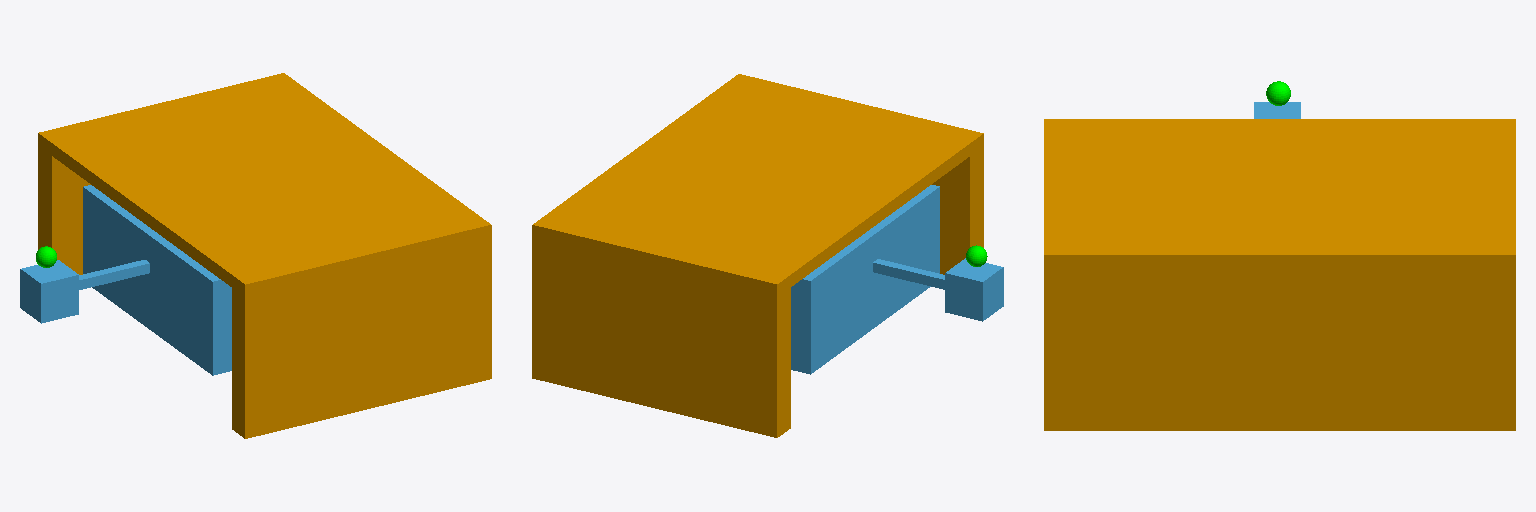
robot.urdf — drawer:
<?xml version="1.0" ?>
<robot name="drawer">
  <!-- Cabinet -->
  <link name="cabinet_link">
    <contact>
      <friction_anchor/>
      <lateral_friction value="10.0"/> <!--  lateral friction for stability -->
      <rolling_friction value="10.01"/> <!--  rolling friction for stability -->
    </contact>
    <inertial>
       <origin rpy="0 0 0" xyz="0 0 0"/>
       <mass value="10.1"/>
            <inertia ixx="0.0" ixy="0.0" ixz="0.0" iyy="0.0" iyz="0.0" izz="0.0" />
    </inertial>
    <visual>
      <geometry>
        <mesh filename="./cabinet/cabinet.obj" scale="1.3 1.3 1.3"/>
      </geometry>
    </visual>
    <collision>
      <geometry>
    	 	<mesh filename="./cabinet/cabinet.obj" scale="1.3 1.3 1.3"/>
      </geometry>
    </collision>
  </link>


  <!-- Drawer  -->
  <link name="drawer_link">
    <contact>
      <friction_anchor/>
      <lateral_friction value="2.5"/> <!--  lateral friction for stability -->
      <rolling_friction value="2.5"/> <!--  rolling friction for stability -->
    </contact>
    <inertial>
       <origin rpy="0 0 0" xyz="0 0 0"/>
       <mass value="1.1"/>
            <inertia ixx="0.0" ixy="0.0" ixz="0.0" iyy="0.0" iyz="0.0" izz="0.0" />
    </inertial>
    <visual>
      <geometry>
        <mesh filename="./drawer/drawerhandle.obj" scale="1 0.95 1"/>
      </geometry>
    </visual>
    <collision>
      <geometry>
    	 	<mesh filename="./drawer/drawerhandle.obj" scale="1 0.95 1"/>
      </geometry>
    </collision>
  </link>
 
  <joint name="drawer_joint" type="prismatic">
    <parent link="cabinet_link"/>
    <child link="drawer_link"/>
    <origin xyz="0 0 0" rpy="0 0 0"/>
    <axis xyz="1 0 0"/>
        <dynamics damping="0" friction="0" />
        <limit lower="-0.4" upper="0.4" effort="0" velocity="2.16"/>
  </joint>


    <joint name="handle_joint" type="fixed">
    <parent link="drawer_link"/>
    <child link="handle"/>
    <origin rpy="0 0 0" xyz="-0.18 0.0 0"/>
  </joint>
  <link name="handle">
    <visual>
      <origin rpy="0 0 0" xyz="0 0.0 0"/>
      <geometry>
        <sphere radius="0.01"/>
      </geometry>
    <material name="green">
        <color rgba="0.0 1 0.0 1.0"/>
    </material>
    </visual>
  </link>
  
</robot>

--- Facts derived from the render (not from the file) ---
The picture shows the robot from 3 angles, left to right: view 1: azimuth 30°, elevation 25°; view 2: azimuth 150°, elevation 25°; view 3: azimuth 270°, elevation 25°; orthographic projection.
Robot: drawer — 3 links, 2 joints (1 prismatic, 1 fixed); root link cabinet_link; default pose: every joint at zero.
Visible links, largest first — view 1: cabinet_link, drawer_link; view 2: cabinet_link, drawer_link; view 3: cabinet_link, drawer_link.
Link boxes in pixels (bbox=[...]): cabinet_link: bbox=[38, 73, 491, 438]; drawer_link: bbox=[20, 185, 231, 375]; cabinet_link: bbox=[532, 74, 983, 437]; drawer_link: bbox=[791, 185, 1003, 374]; cabinet_link: bbox=[1044, 119, 1515, 430]; drawer_link: bbox=[1254, 102, 1300, 118].
Size in the robot's own frame: 0.3783 by 0.3796 by 0.156 metres.
Meshes: 2 distinct files referenced, 2 mesh visuals loaded (2 OBJ).